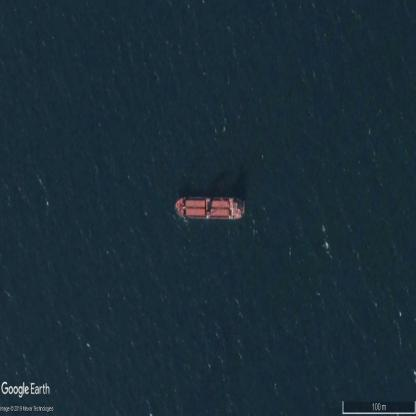ship: (175, 194, 246, 219)
